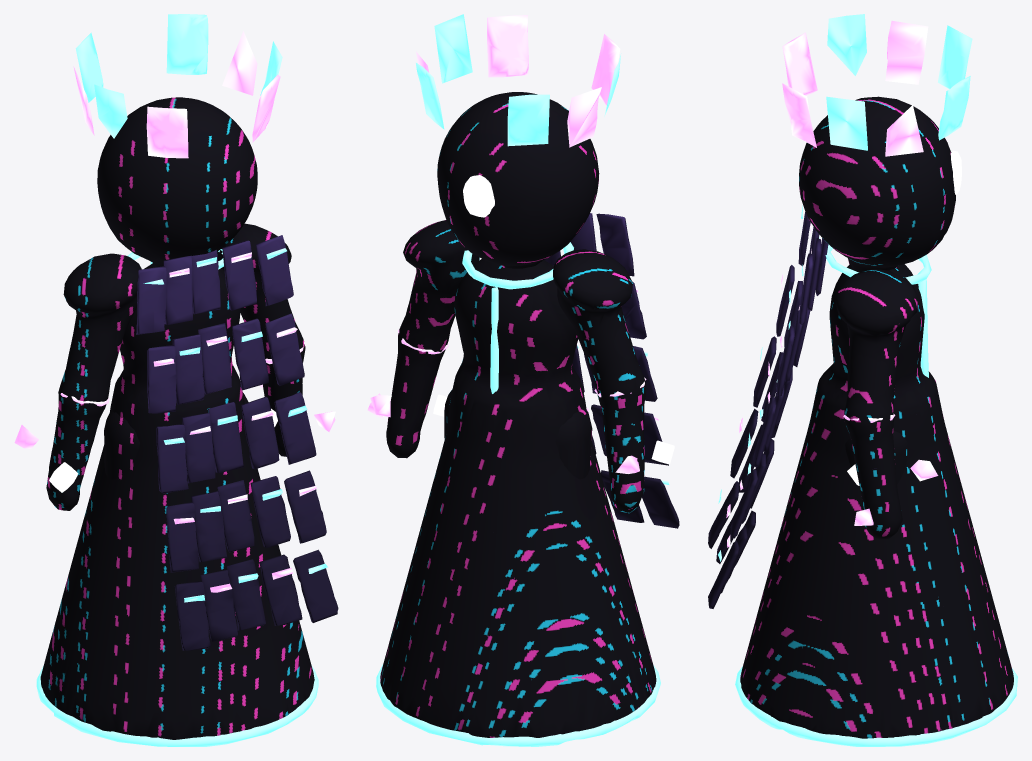
The model's file is Axiom.glb.
3 renders of one model, left to right at view 1: azimuth 30°, elevation 25°; view 2: azimuth 150°, elevation 25°; view 3: azimuth 270°, elevation 25°, orthographic.
Visible parts, largest first — view 1: Body, Cape, Head, ArmL, Halo_Glow2, Halo_Glow, ArmR, Body_Glow, LegL, Cape_Glow, Cape_Glow2, Orbit_Glow (+1 smaller); view 2: Body, Head, ArmL, ArmR, Cape, Halo_Glow, Halo_Glow2, Body_Glow, LegL, Head_Glow, Orbit_Glow, Orbit_Glow2; view 3: Body, Head, ArmR, Cape, Halo_Glow2, Halo_Glow, Body_Glow, LegR, Orbit_Glow.
Boxes of the visible parts, x1,y1,x2,y2 form: Body: [40, 263, 314, 739]; Cape: [136, 235, 338, 650]; Head: [97, 97, 257, 267]; ArmL: [46, 253, 141, 510]; Halo_Glow2: [75, 14, 282, 138]; Halo_Glow: [73, 31, 280, 158]; ArmR: [217, 223, 305, 456]; Body_Glow: [36, 249, 318, 746]; LegL: [104, 411, 139, 479]; Cape_Glow: [143, 248, 327, 602]; Cape_Glow2: [153, 252, 316, 592]; Orbit_Glow: [14, 384, 335, 448]; Body: [380, 259, 656, 737]; Head: [437, 92, 599, 268]; ArmL: [553, 249, 646, 513]; ArmR: [386, 220, 479, 458]; Cape: [544, 213, 679, 528]; Halo_Glow: [416, 15, 620, 147]; Halo_Glow2: [416, 14, 621, 146]; Body_Glow: [376, 242, 660, 746]; LegL: [555, 408, 592, 479]; Head_Glow: [463, 175, 494, 217]; Orbit_Glow: [367, 393, 639, 473]; Orbit_Glow2: [433, 394, 674, 464]; Body: [740, 264, 1013, 738]; Head: [799, 96, 955, 272]; ArmR: [836, 269, 918, 540]; Cape: [708, 212, 828, 608]; Halo_Glow2: [826, 14, 972, 150]; Halo_Glow: [782, 20, 928, 156]; Body_Glow: [735, 244, 1017, 746]; LegR: [845, 430, 908, 484]; Orbit_Glow: [854, 459, 938, 525].
Bounding box in the file's own units: 2.26 × 4.79 × 2.07.
Materials: 11 (1 with a texture image).
